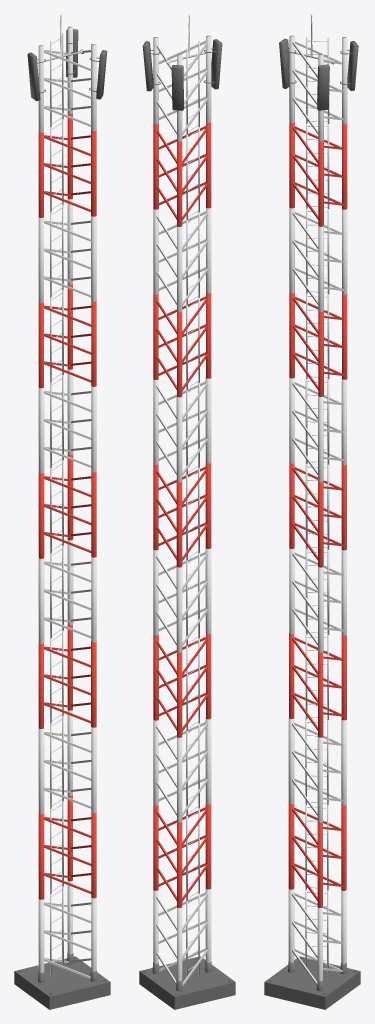
File: radio-tower.fbx
3 renders of one model, left to right at view 1: azimuth 30°, elevation 25°; view 2: azimuth 210°, elevation 25°; view 3: azimuth 330°, elevation 25°, orthographic.
Parts seen in each view (by area): view 1: Base, Tower.008, Tower.007, Tower.009, Tower.002, Tower.001, Tower.003, Tower.006, Tower.004, Tower.010, Tower.005, Tower (+14 smaller); view 2: Base, Tower.007, Tower.009, Tower.008, Tower.001, Tower.002, Tower.003, Tower.004, Tower.006, Tower.010, Tower, Tower.005 (+14 smaller); view 3: Base, Tower.002, Tower.001, Tower.004, Tower.003, Tower.010, Tower.007, Tower.009, Tower.008, Tower.006, Tower, Tower.005 (+14 smaller).
Boxes of the visible parts, <box> form: Base: <box>14,953,110,1009</box>; Tower.008: <box>38,454,96,558</box>; Tower.007: <box>38,369,96,473</box>; Tower.009: <box>38,539,96,643</box>; Tower.002: <box>38,710,96,814</box>; Tower.001: <box>38,795,96,899</box>; Tower.003: <box>38,199,96,303</box>; Tower.006: <box>38,624,96,728</box>; Tower.004: <box>38,113,96,217</box>; Tower.010: <box>38,284,96,388</box>; Tower.005: <box>38,26,96,132</box>; Tower: <box>38,880,96,978</box>; Base: <box>139,956,235,1009</box>; Tower.007: <box>153,377,211,482</box>; Tower.009: <box>153,548,211,652</box>; Tower.008: <box>153,462,211,567</box>; Tower.001: <box>153,803,211,907</box>; Tower.002: <box>153,718,211,822</box>; Tower.003: <box>153,208,211,311</box>; Tower.004: <box>153,122,211,226</box>; Tower.006: <box>153,633,211,737</box>; Tower.010: <box>153,293,211,397</box>; Tower: <box>153,888,211,985</box>; Tower.005: <box>153,35,211,141</box>; Base: <box>264,956,360,1009</box>; Tower.002: <box>288,718,346,822</box>; Tower.001: <box>288,803,346,907</box>; Tower.004: <box>289,122,347,226</box>; Tower.003: <box>289,207,347,311</box>; Tower.010: <box>289,292,347,396</box>; Tower.007: <box>289,378,346,482</box>; Tower.009: <box>289,548,346,652</box>; Tower.008: <box>289,463,346,567</box>; Tower.006: <box>289,633,346,737</box>; Tower: <box>288,888,346,985</box>; Tower.005: <box>289,35,347,141</box>.
Bounding box in the file's own units: 154 × 2289 × 154.
